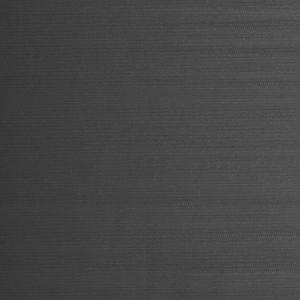Wrinkle: (7, 185, 300, 300), (74, 4, 300, 98)
